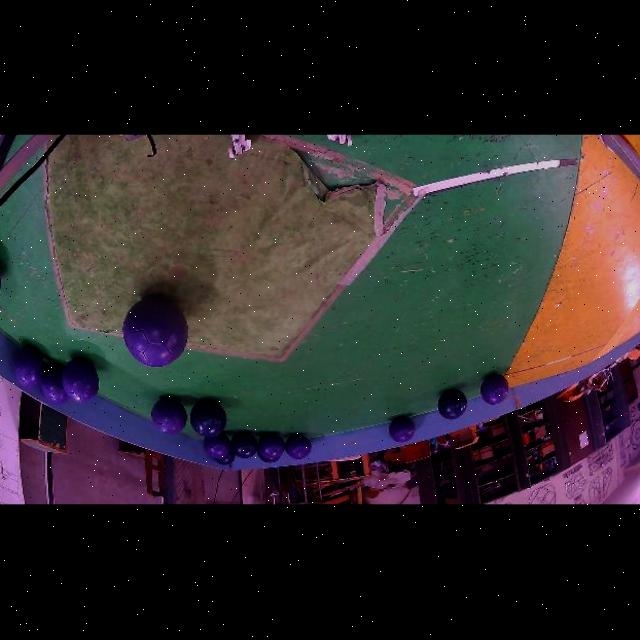B: (190, 401, 227, 439), (438, 390, 468, 421), (214, 451, 235, 466)
P: (123, 296, 189, 368), (61, 359, 99, 404), (151, 399, 187, 436), (14, 346, 45, 388), (42, 365, 69, 405), (481, 374, 509, 405), (258, 433, 285, 460), (231, 432, 258, 459), (389, 417, 415, 444), (204, 433, 231, 459), (285, 435, 312, 460)
